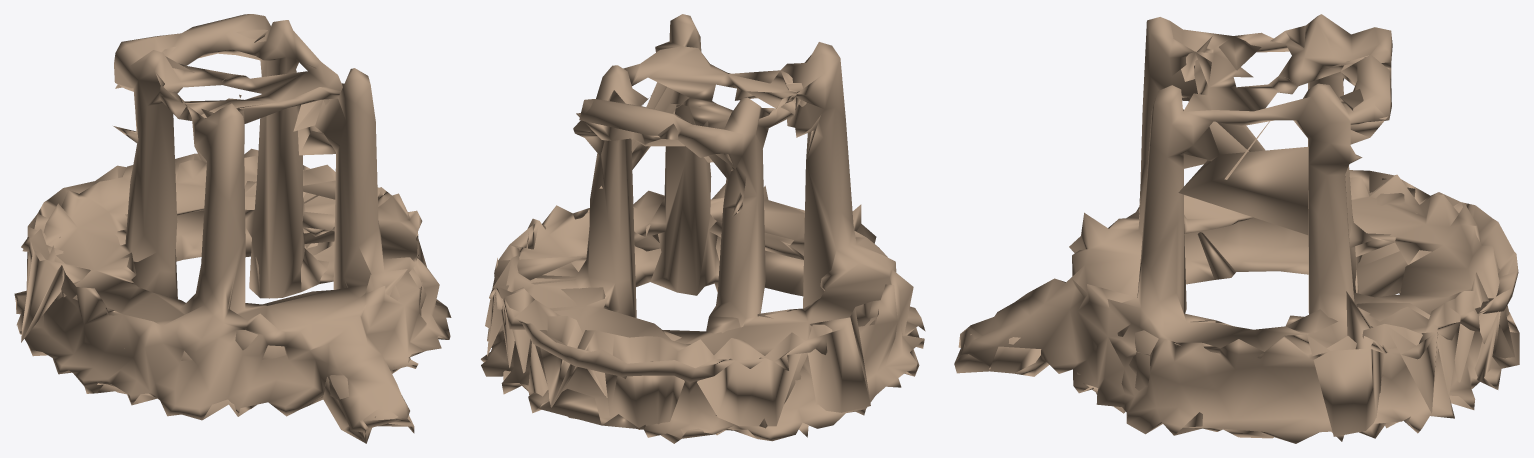
The model's file is monumento_d.glb.
3 views of the same model, side by side, from view 1: azimuth 30°, elevation 25°; view 2: azimuth 150°, elevation 25°; view 3: azimuth 270°, elevation 25° (orthographic). The views are drawn at different scales.
Visible parts, largest first — view 1: monumento_d; view 2: monumento_d; view 3: monumento_d.
Part boxes in pixels (x1,y1,x2,y2): monumento_d: [14, 14, 451, 443]; monumento_d: [481, 14, 925, 443]; monumento_d: [954, 14, 1519, 443].
Size of the model in its own units: 10.42 by 7.64 by 12.46.
